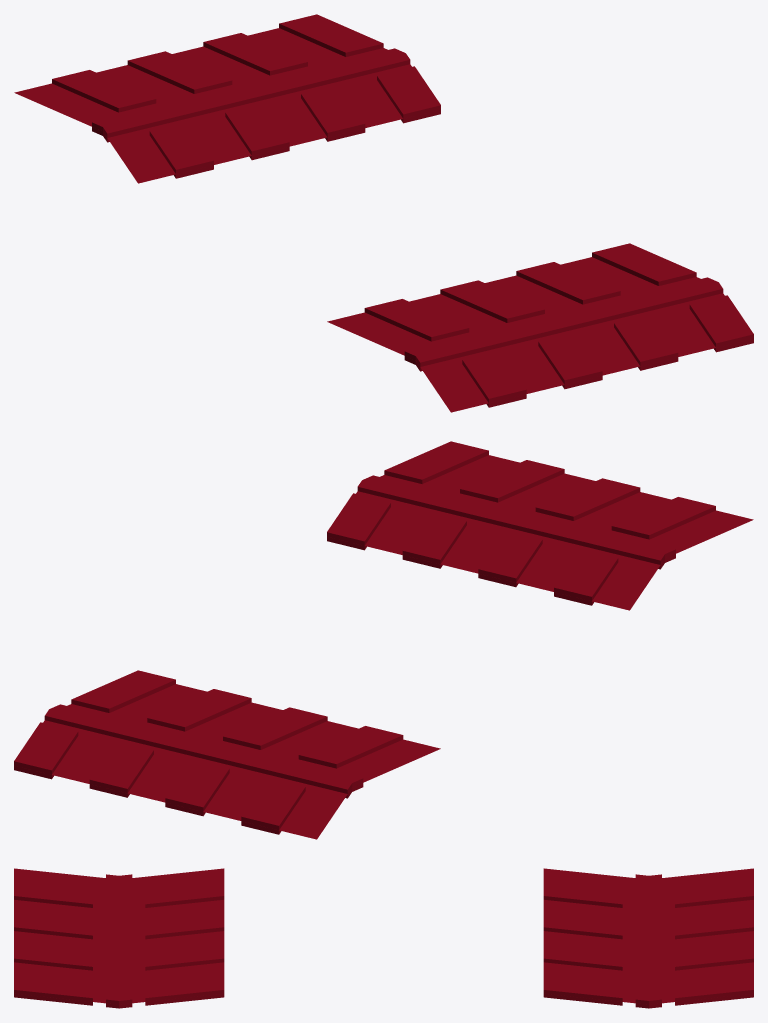
File: Footprint.glb
The picture shows the model from 3 angles, top to bottom: view 1: azimuth 30°, elevation 25°; view 2: azimuth 150°, elevation 25°; view 3: azimuth 270°, elevation 25°; orthographic projection. The views are drawn at different scales.
Visible parts, largest first — view 1: Move.001; view 2: Move.001; view 3: Move.001.
Boxes of the visible parts, <box> form: Move.001: <box>14,14,753,412</box>; Move.001: <box>14,441,753,839</box>; Move.001: <box>14,868,753,1008</box>.
Bounding box in the file's own units: 0.6136 × 0.0159 × 1.41.
1 material, 1 textured.
